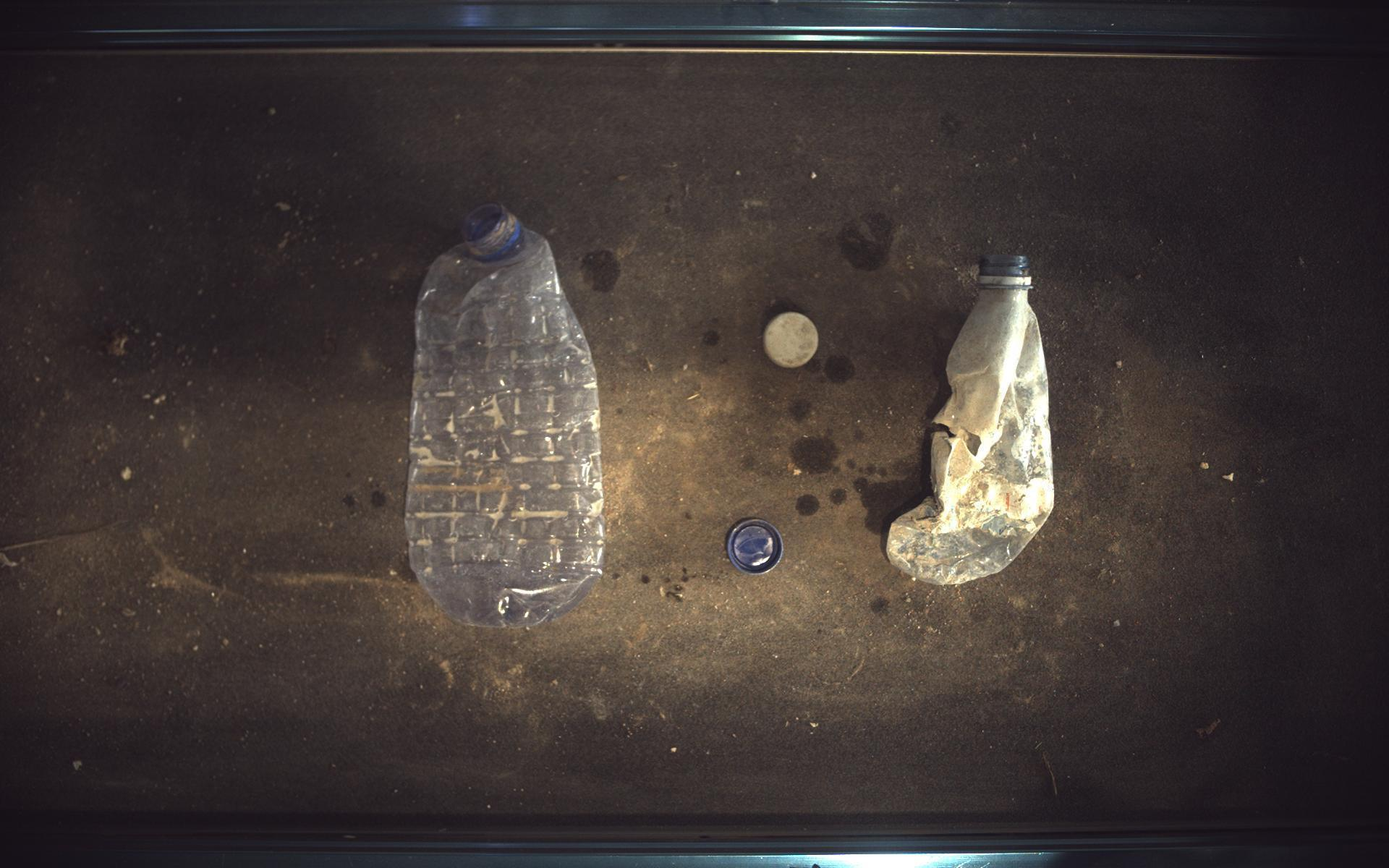general_w: (405, 203, 605, 628), (888, 254, 1056, 585), (727, 519, 785, 576), (765, 312, 820, 368)
